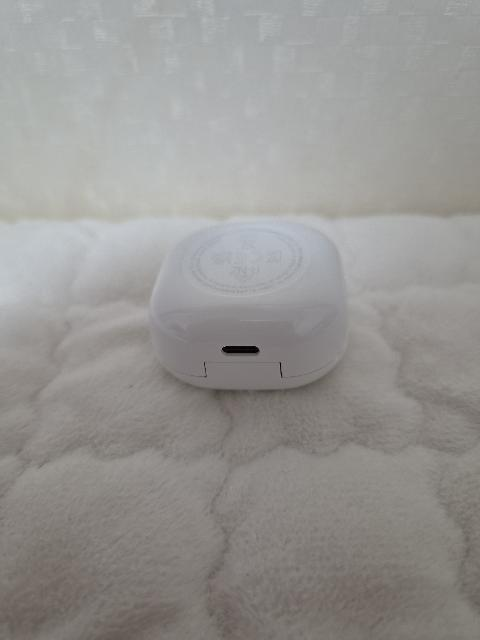earphone_case: (148, 221, 349, 390)
